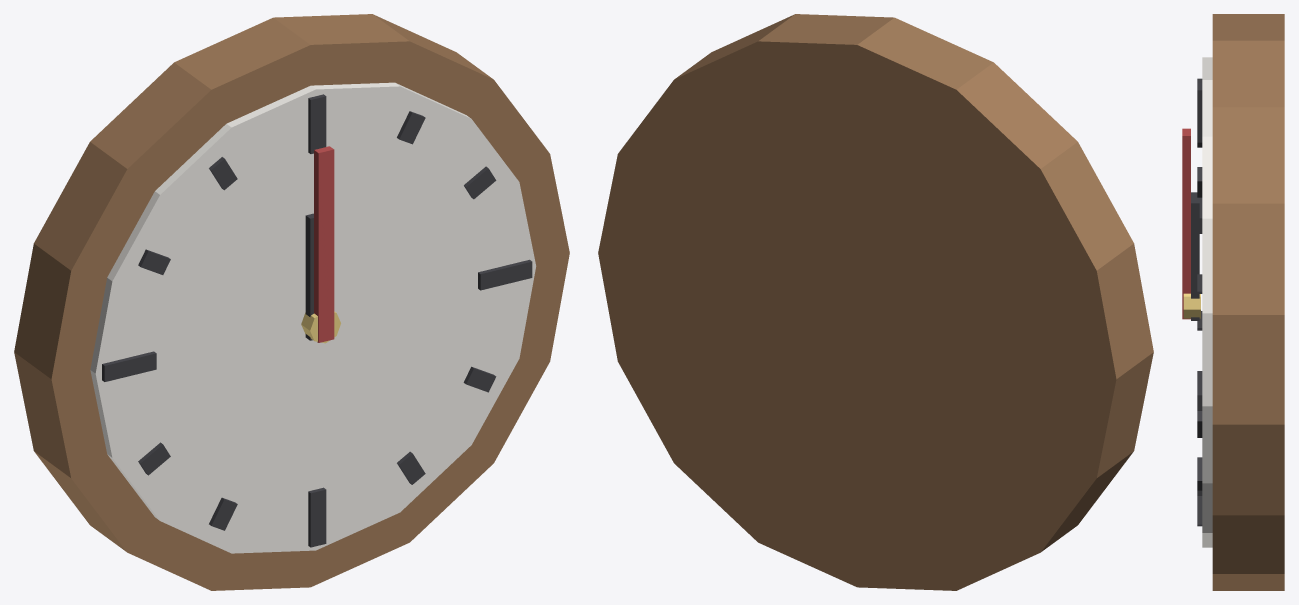
The model's file is prop_wall_clock_01.glb.
The picture shows the model from 3 angles, left to right: view 1: azimuth 30°, elevation 25°; view 2: azimuth 150°, elevation 25°; view 3: azimuth 270°, elevation 25°; orthographic projection. The views are drawn at different scales.
Visible parts, largest first — view 1: prop_wall_clock_01_body, prop_wall_clock_01_hand_m, prop_wall_clock_01_hand_h; view 2: prop_wall_clock_01_body; view 3: prop_wall_clock_01_body, prop_wall_clock_01_hand_m, prop_wall_clock_01_hand_h.
Boxes of the visible parts, x1,y1,x2,y2 form: prop_wall_clock_01_body: (14,14,569,590); prop_wall_clock_01_hand_m: (314,146,334,342); prop_wall_clock_01_hand_h: (305,213,313,340); prop_wall_clock_01_body: (598,14,1153,590); prop_wall_clock_01_body: (1183,14,1284,590); prop_wall_clock_01_hand_m: (1182,128,1190,319); prop_wall_clock_01_hand_h: (1191,192,1199,320).
Bounding box in the file's own units: 0.4 × 0.4 × 0.071.
